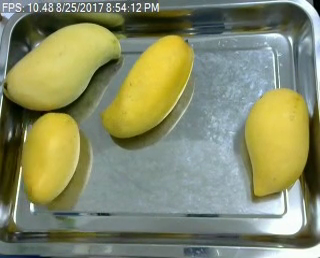Mango: (5, 20, 124, 111), (102, 32, 195, 140), (243, 87, 311, 198), (20, 112, 81, 203)
